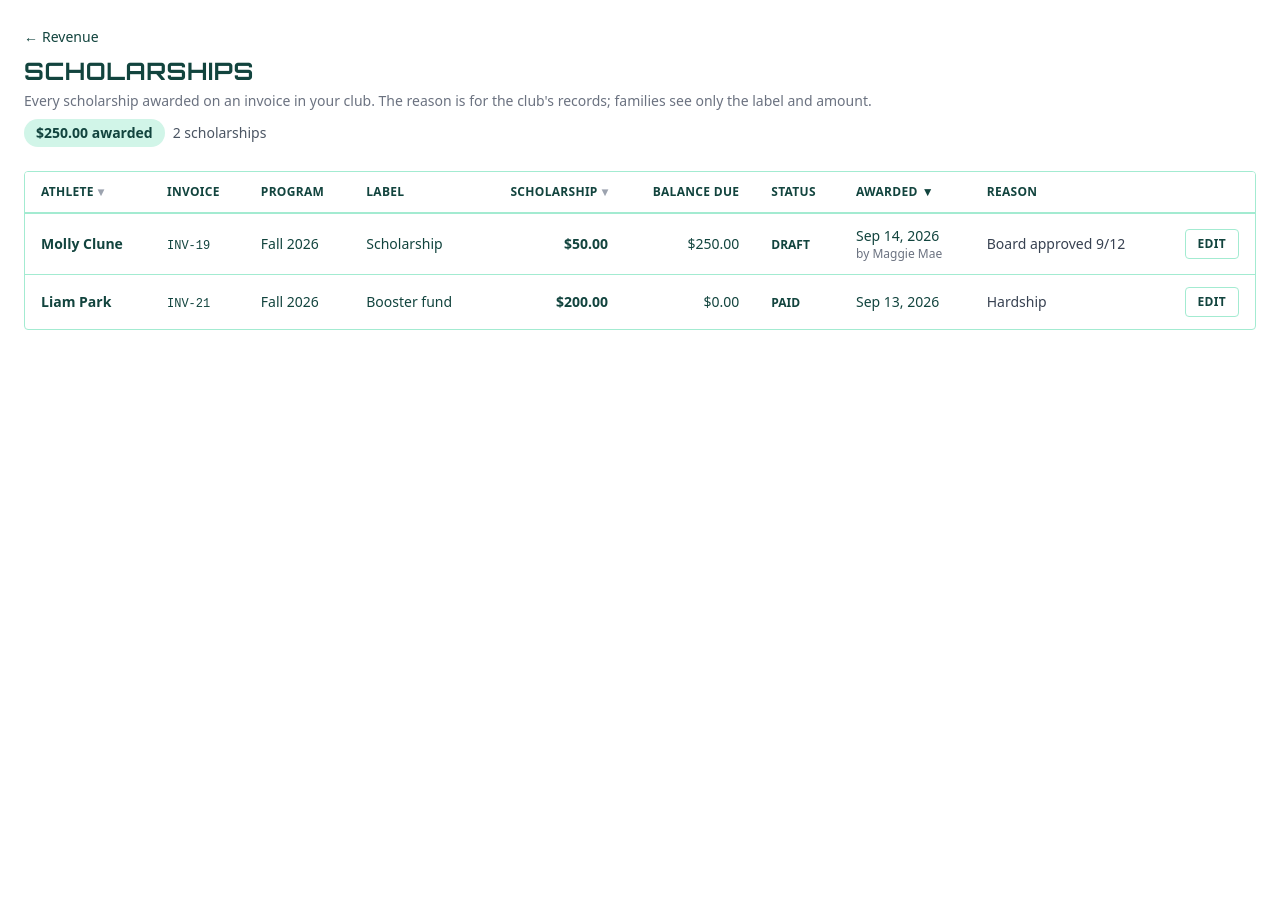
Test: lists every scholarship with the season total, the reason and who awarded it, and Edit opens the modal
expect the link "Molly Clune" is shown: met, box 41,234 -> 123,253
expect the text with test id "total-awarded" reads "$250.00 awarded": met, box 24,119 -> 165,147
Click the button "Edit" in the row of "Molly" at (1212, 244), box 1185,229 -> 1239,259
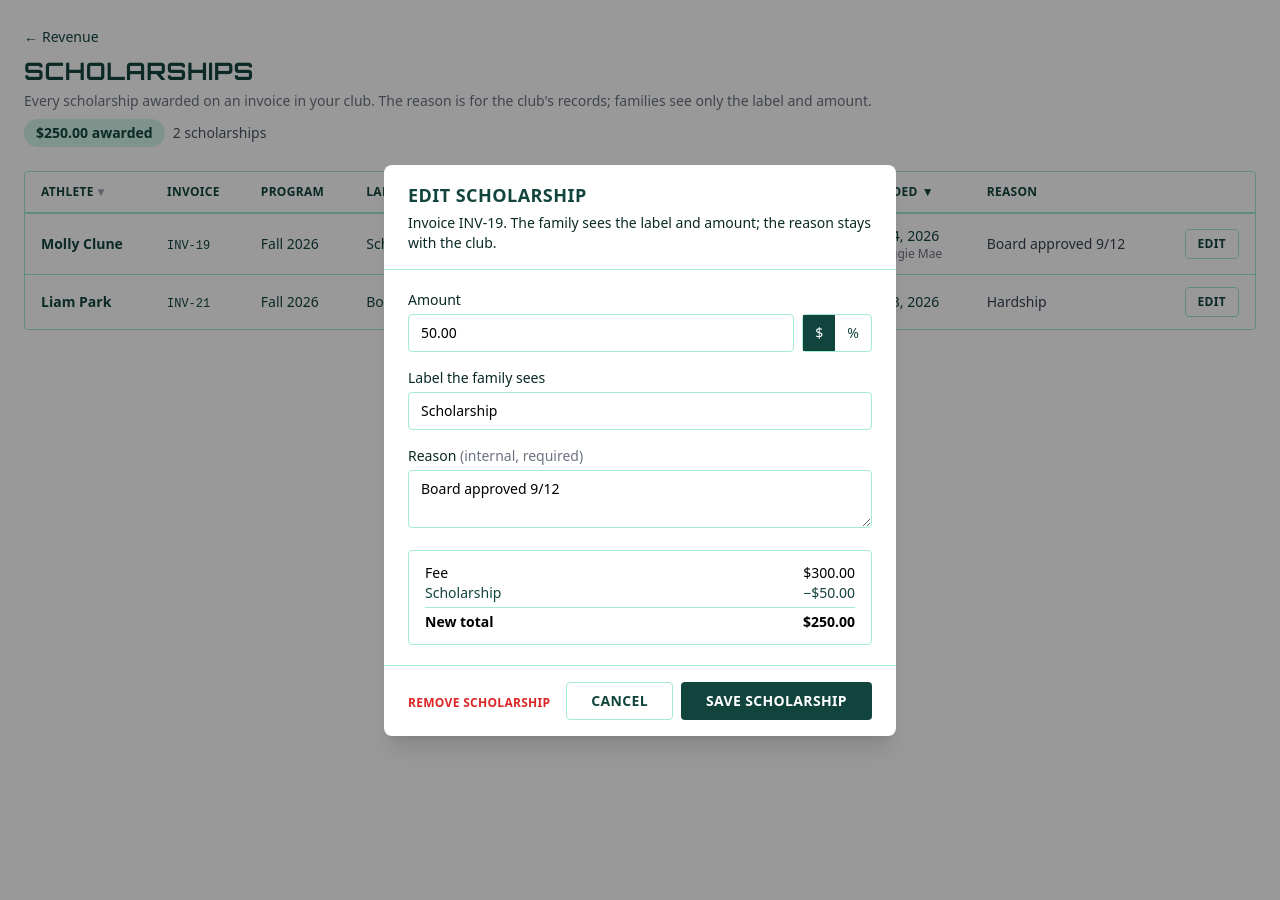
expect the heading "Edit scholarship" is shown: met, box 408,182 -> 587,206
